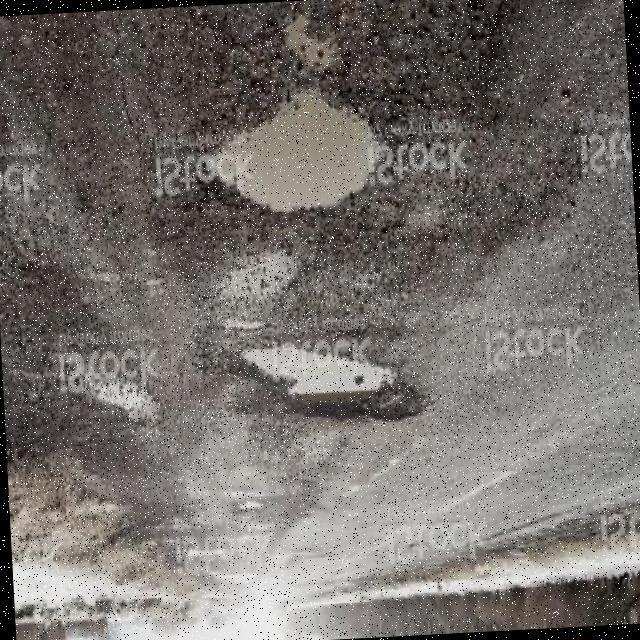Pothole: (217, 93, 374, 212), (247, 346, 421, 421)
